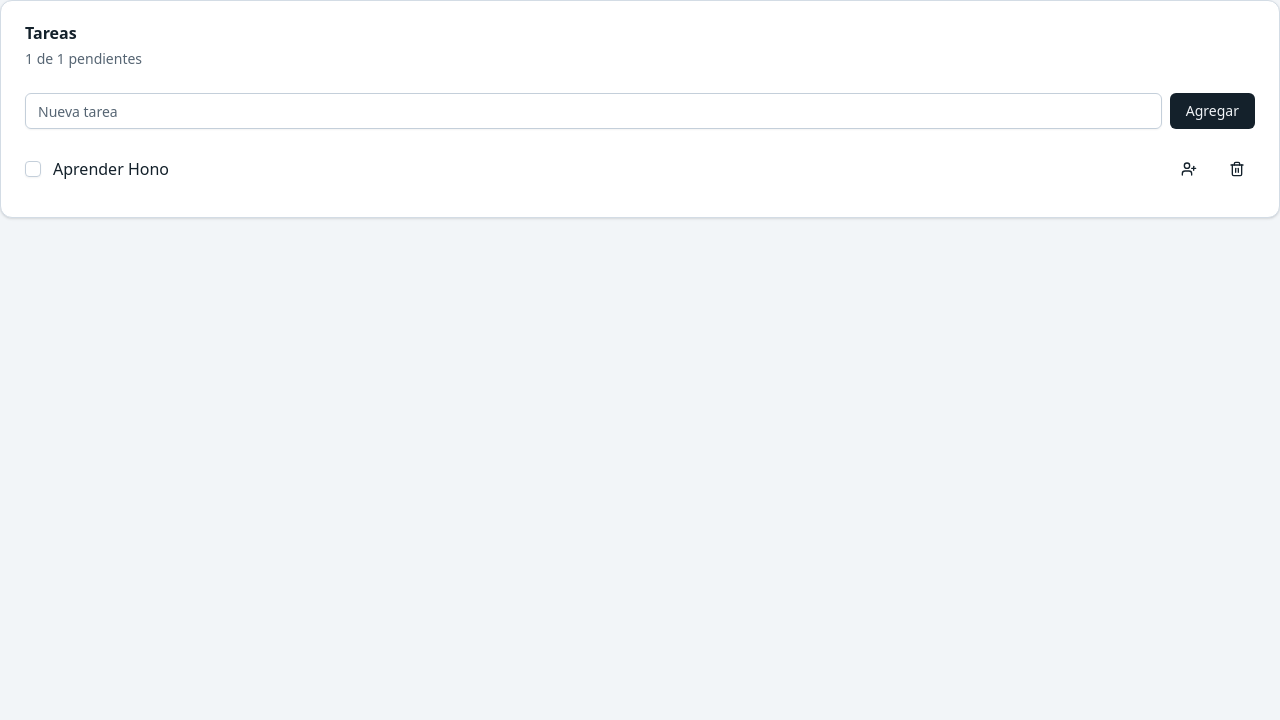
it: TasksApp › usuarios asignados › asignar un usuario lo muestra al instante y lo guarda
Click the button named "Asignar usuarios a Aprender Hono". click: [1189, 169]
box: [1171, 151, 1207, 187]
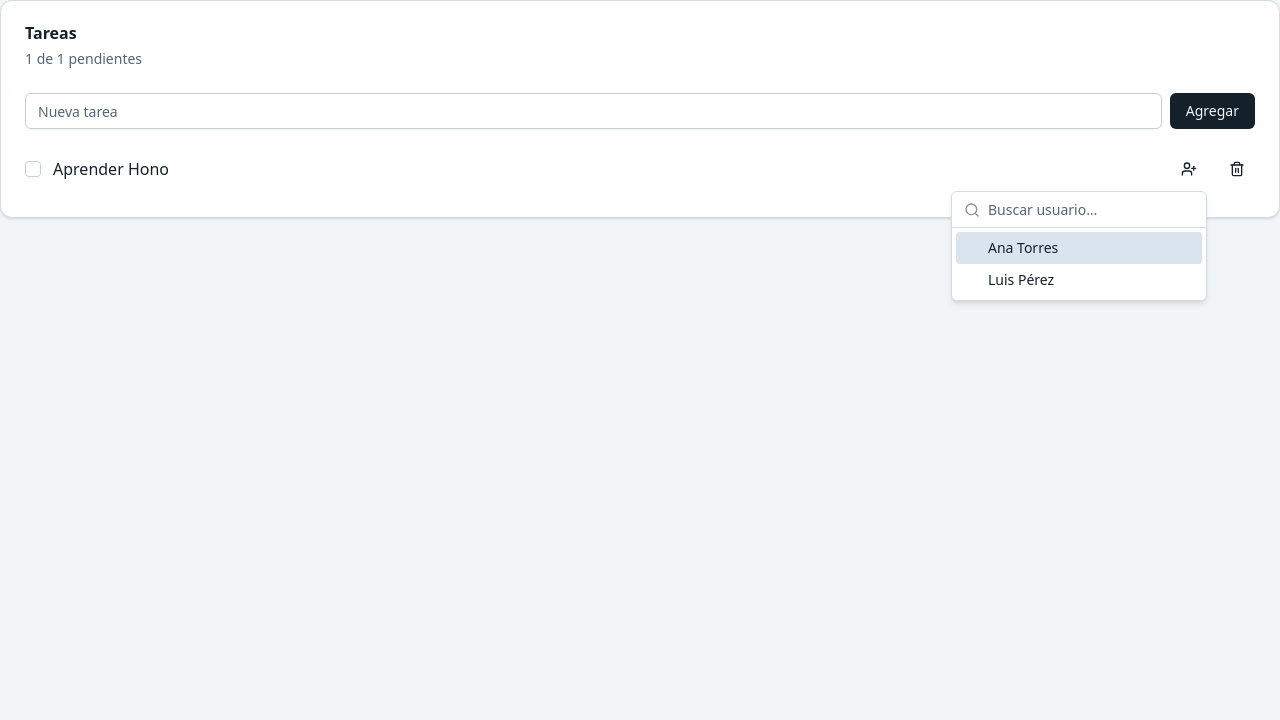
Click the option "Ana Torres". click: [1079, 248]
box: [956, 232, 1202, 264]
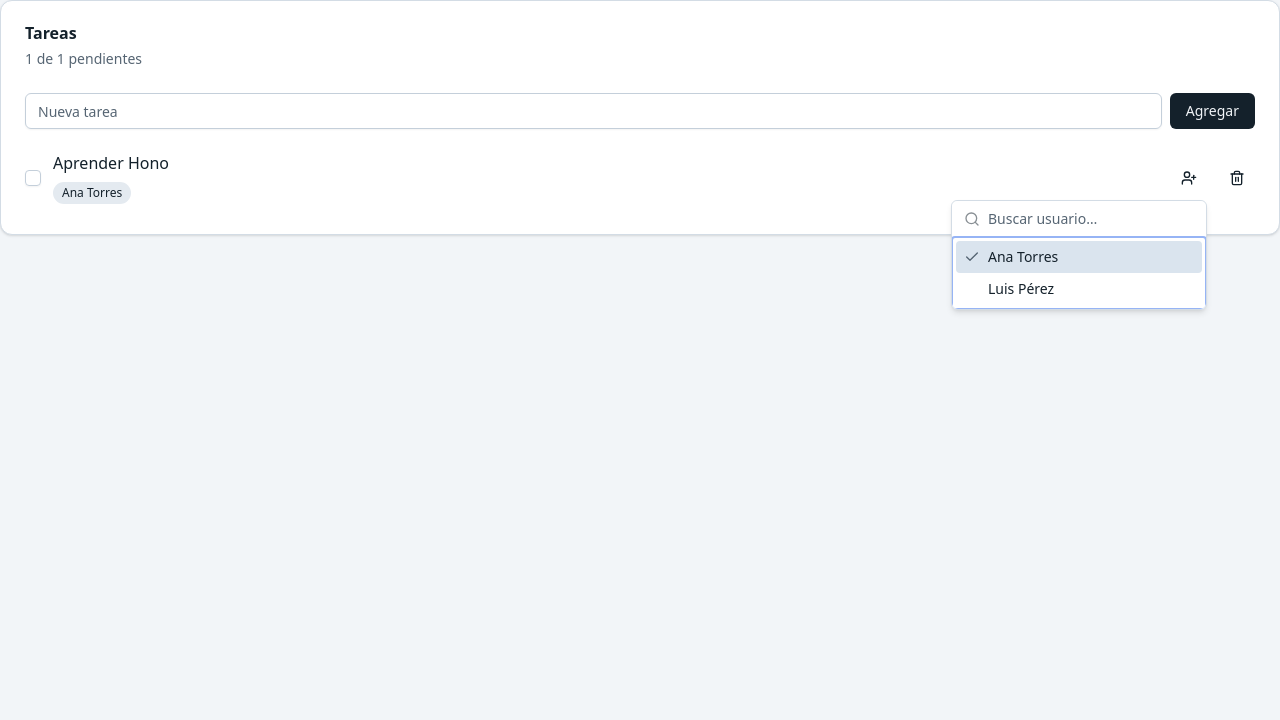
expect the list named "Asignados a Aprender Hono" reads "Ana Torres": met, box [62, 184, 122, 201]
